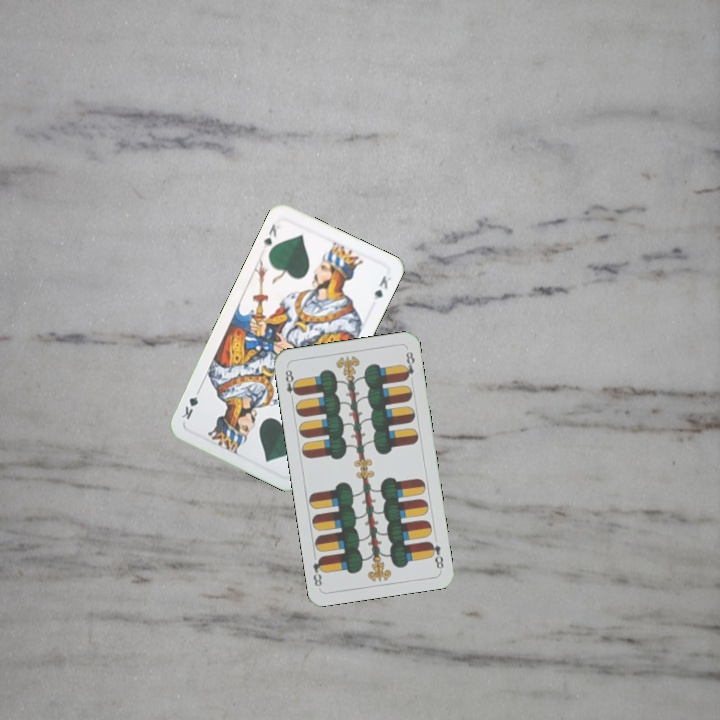E8: (281, 365, 301, 404), (425, 538, 446, 571)
GK: (259, 219, 283, 252)
